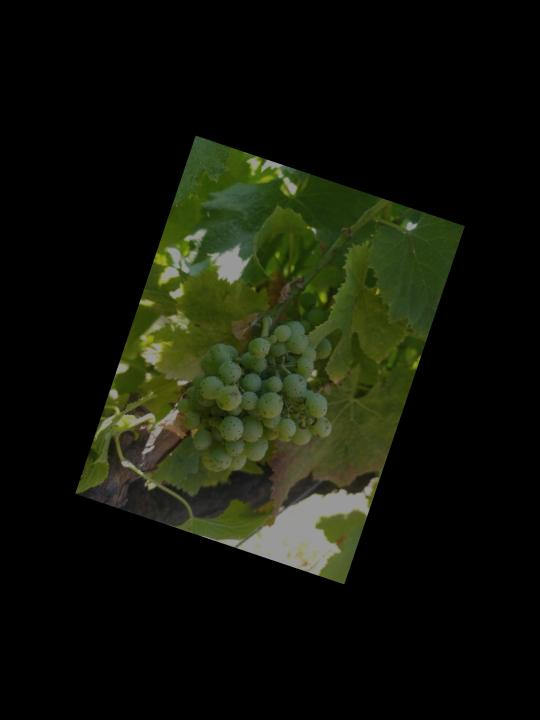grape: (160, 293, 362, 505)
